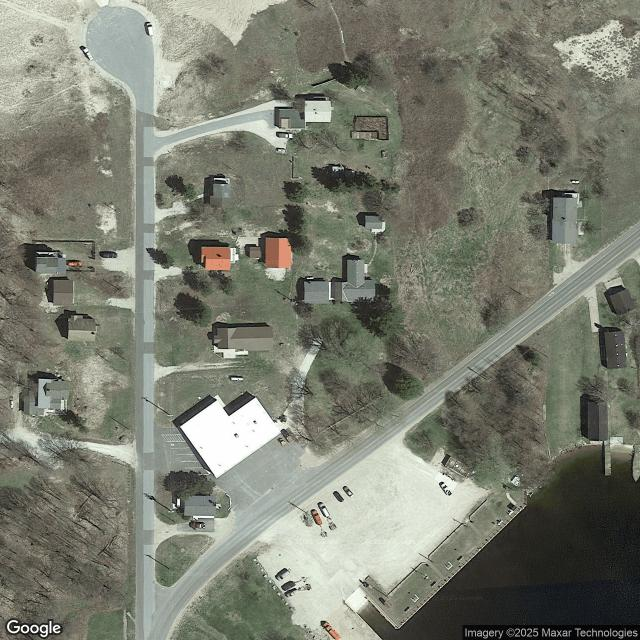Propane: (230, 377, 244, 381), (571, 180, 579, 184), (10, 401, 14, 409), (278, 149, 286, 152), (306, 277, 314, 279)
